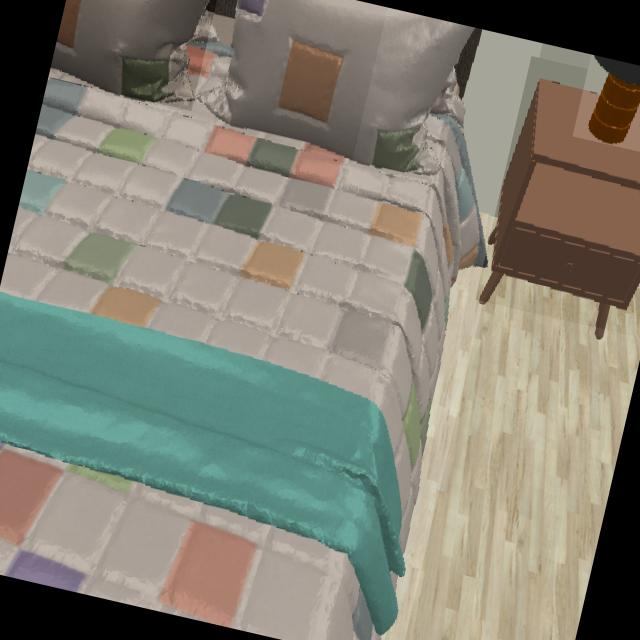lamp: (590, 54, 640, 144)
nighttable: (483, 75, 640, 311)
pillow: (227, 0, 387, 159), (50, 0, 210, 94)
